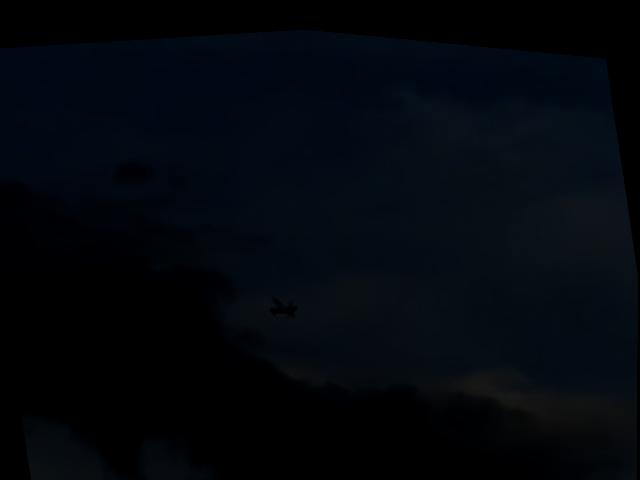uav: (263, 283, 304, 326)
